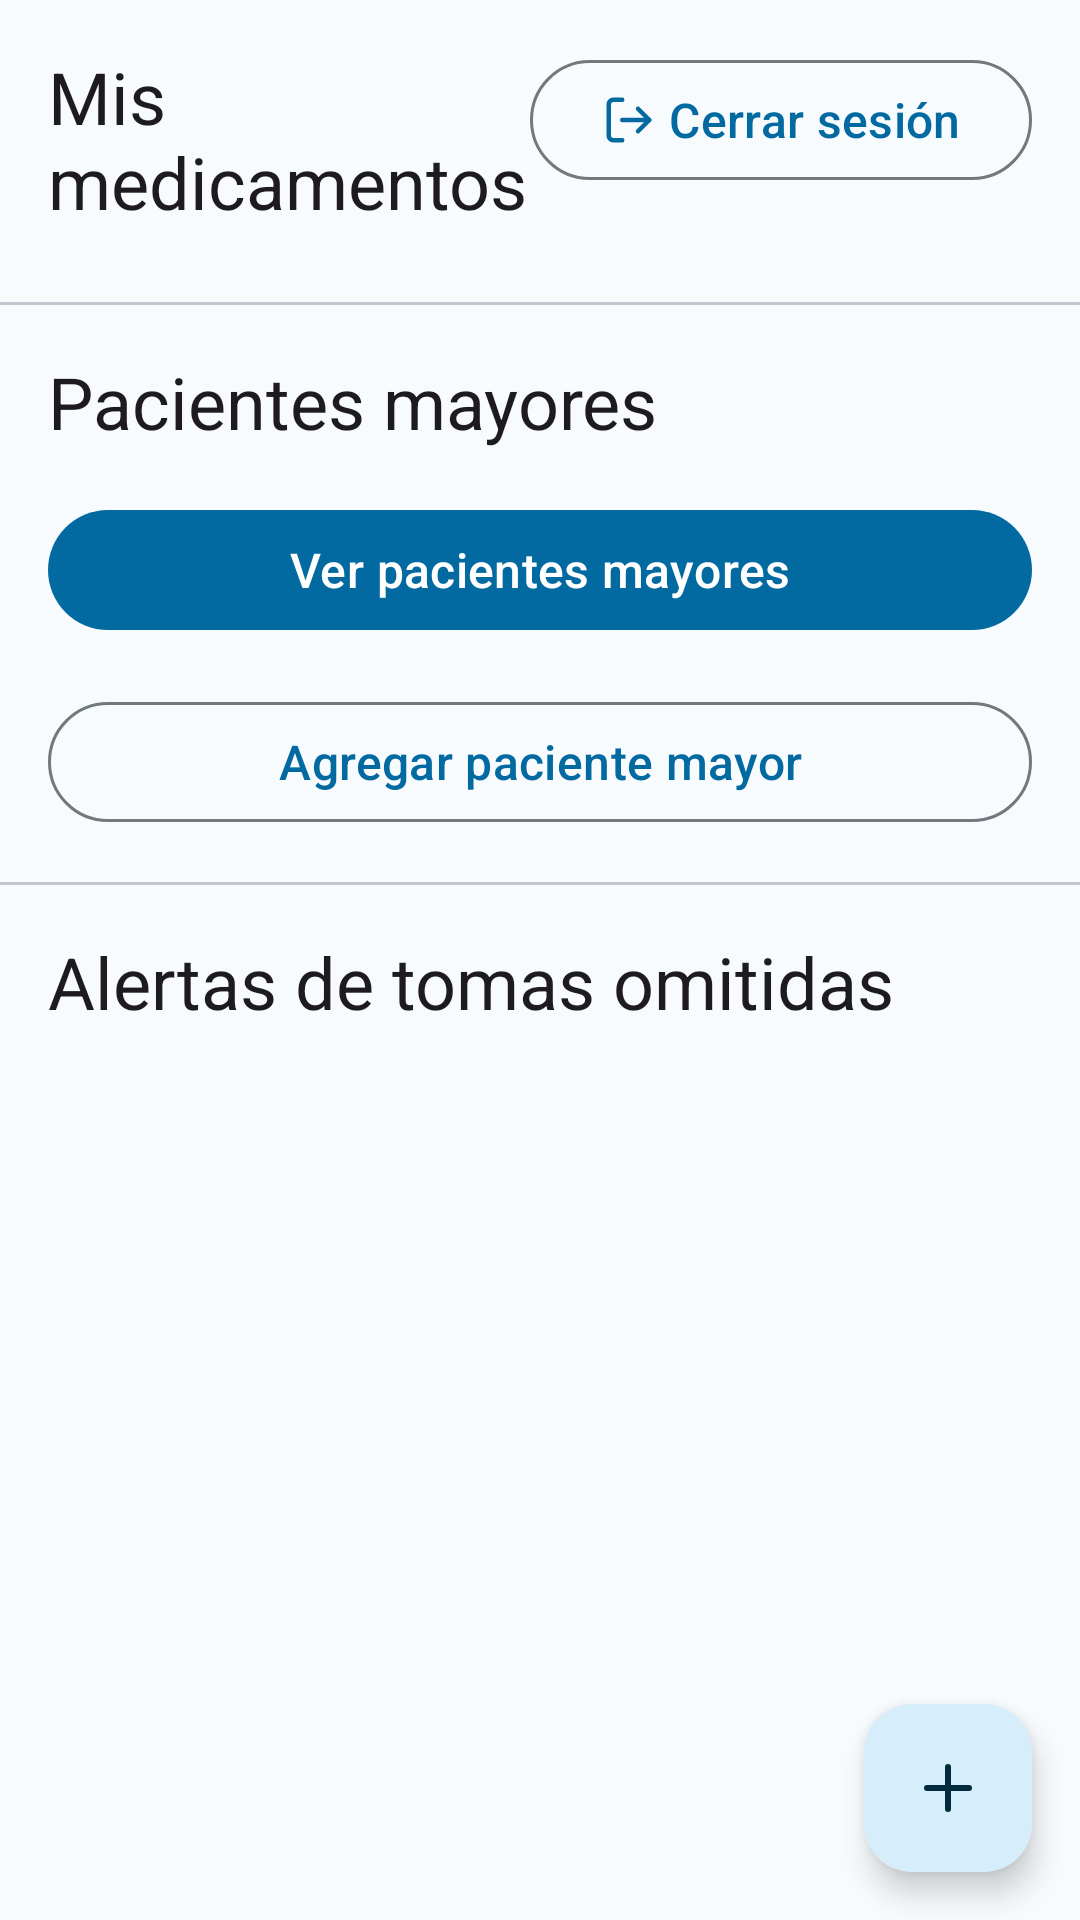

Screen size 1080x1920. Icon name, then its center in pixels as (x=x, y=y):
Agregar medicamento: (x=948, y=1788)
